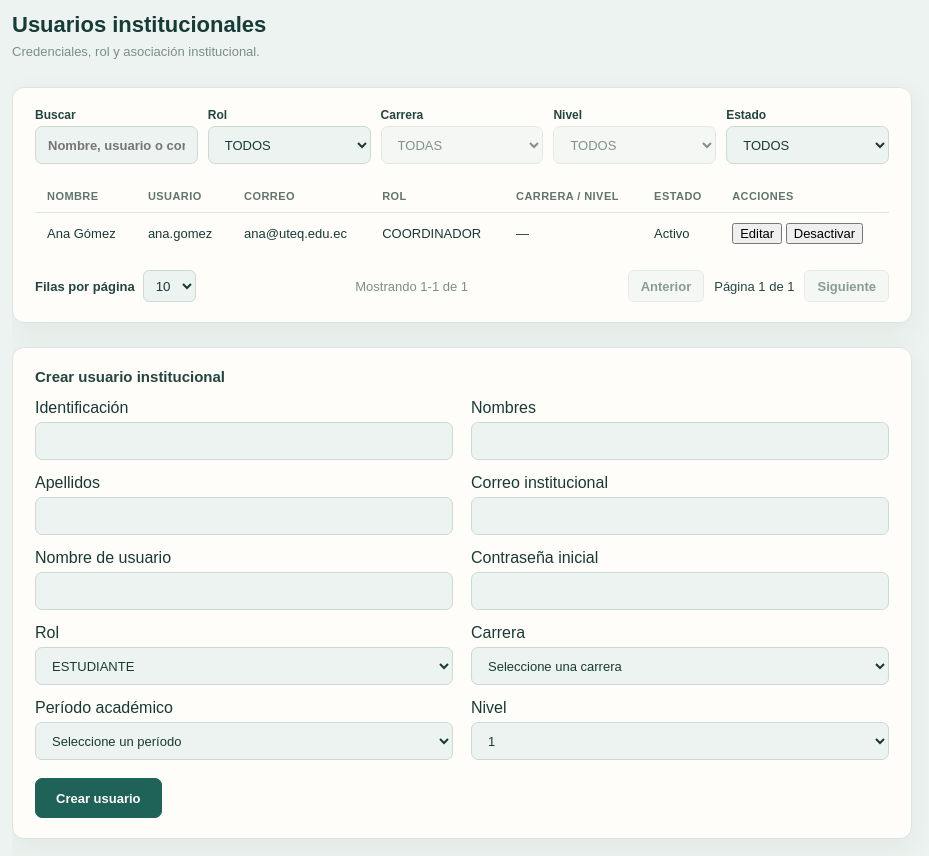
Test case: UsuariosPage administrativa › habilitación Carrera/Nivel solo para ESTUDIANTE y reinicio al cambiar de rol
Expected: the text "ana.gomez" is shown, [136,212,232,254]
Expected: the 1st dropdown labelled "Carrera" is disabled, [381,126,543,164]
Select "DOCENTE" in the dropdown labelled "Rol" below "Buscar": (289, 145) [208,126,371,164]
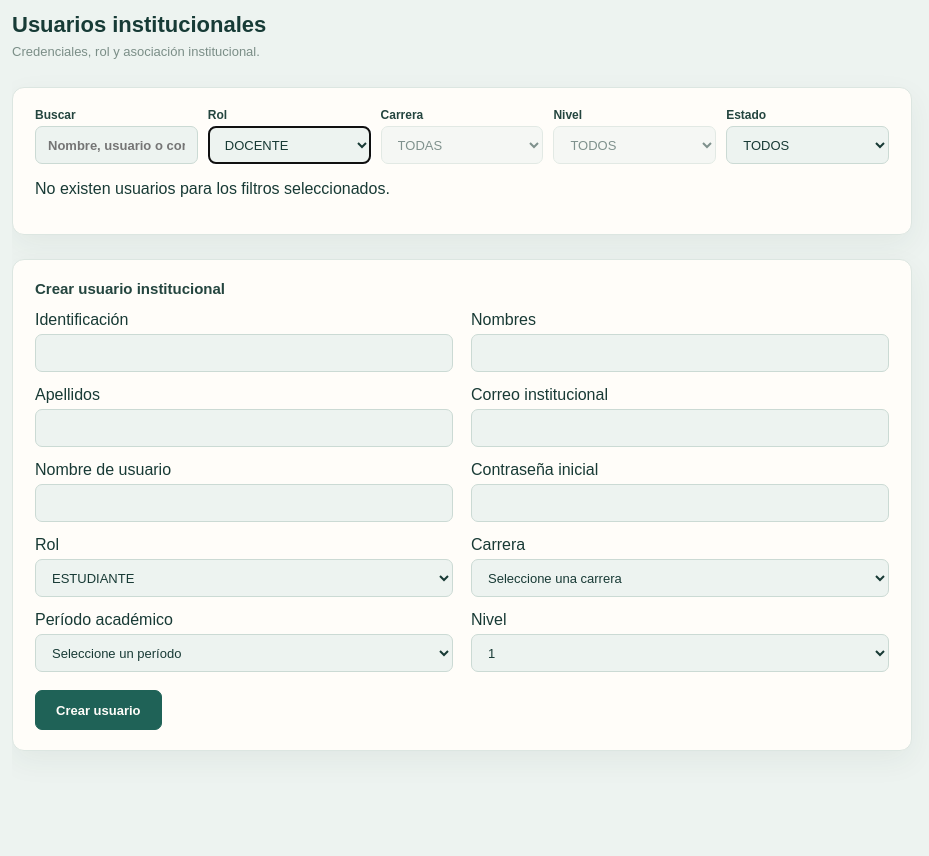
Expected: the dropdown labelled "Carrera" below "Estado" is disabled, [381,126,543,164]
Expected: the dropdown labelled "Nivel" below "Estado" is disabled, [553,126,716,164]
Select "ESTUDIANTE" in the dropdown labelled "Rol" below "Buscar": (289, 145) [208,126,371,164]
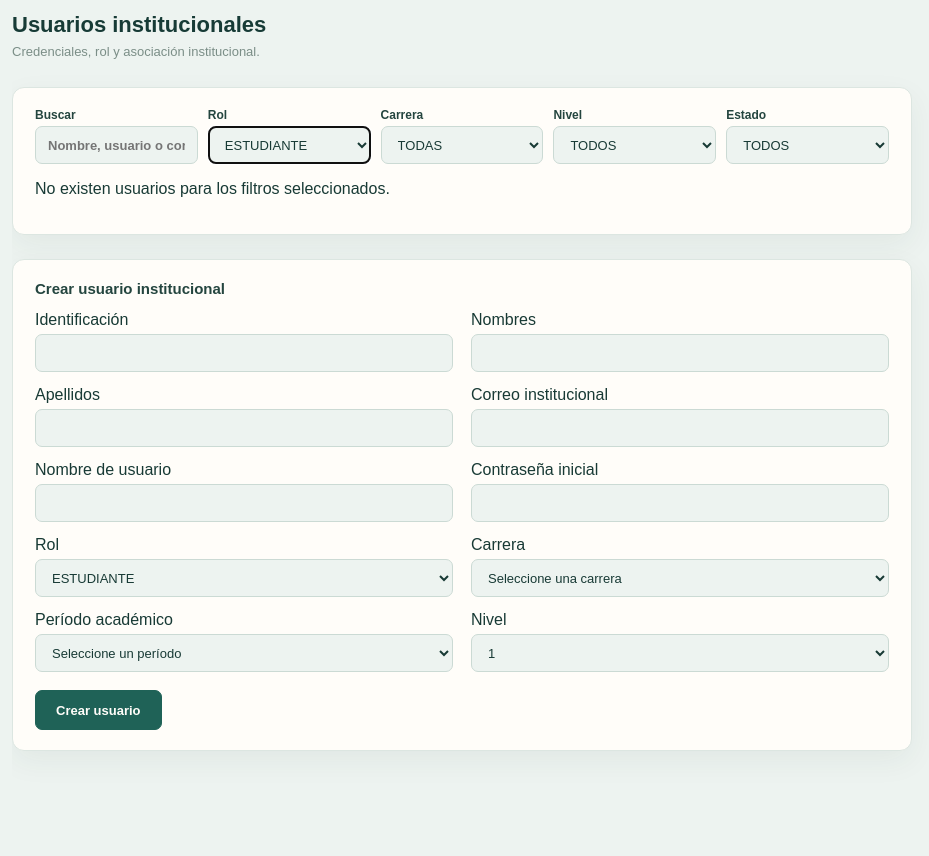
Expected: the dropdown labelled "Carrera" below "Estado" is enabled
Expected: the dropdown labelled "Nivel" below "Estado" is enabled, [553,126,716,164]
Seleccionar carrera y nivel
Select "Ingeniería de Software" in the dropdown labelled "Carrera" below "Estado": (462, 145) [381,126,543,164]
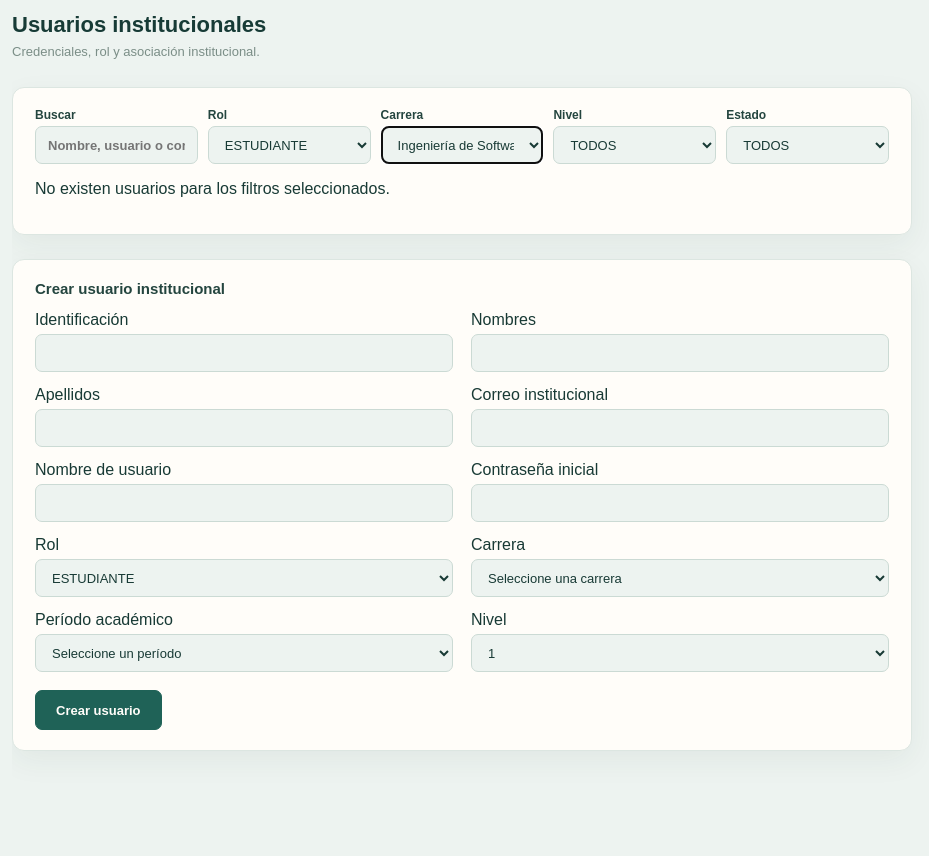
Select "3" in the dropdown labelled "Nivel" below "Estado": (635, 145) [553,126,716,164]
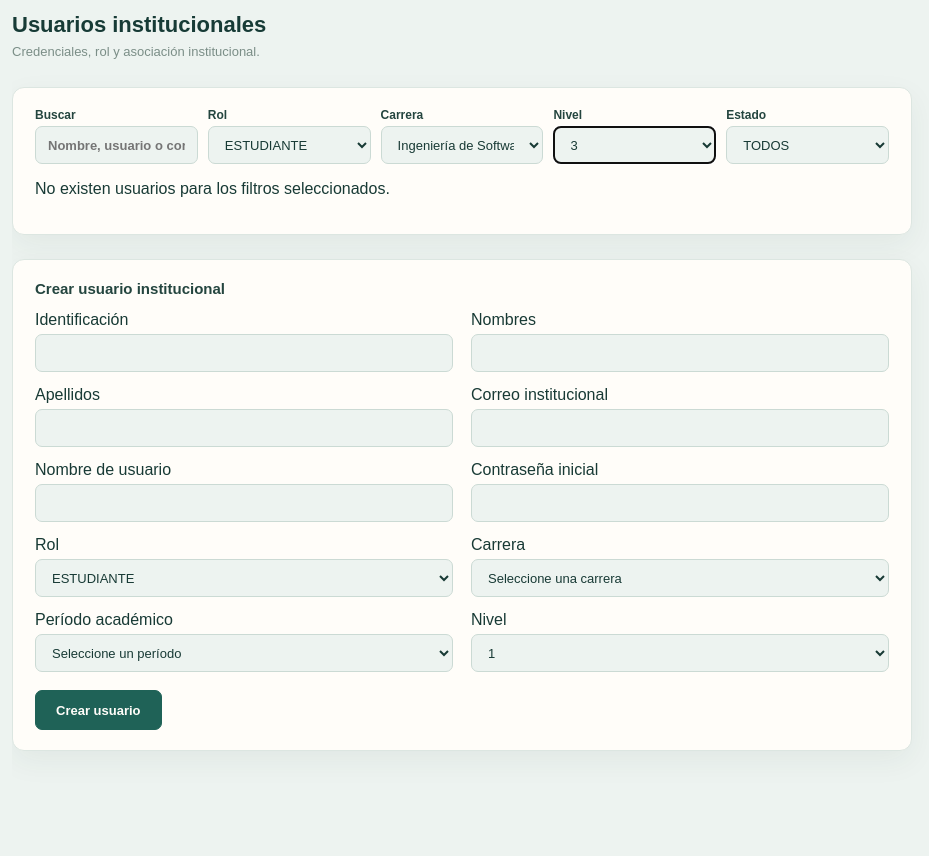
Cambiar a COORDINADOR: Carrera y Nivel deshabilitados y reiniciados
Select "COORDINADOR" in the dropdown labelled "Rol" below "Buscar": (289, 145) [208,126,371,164]
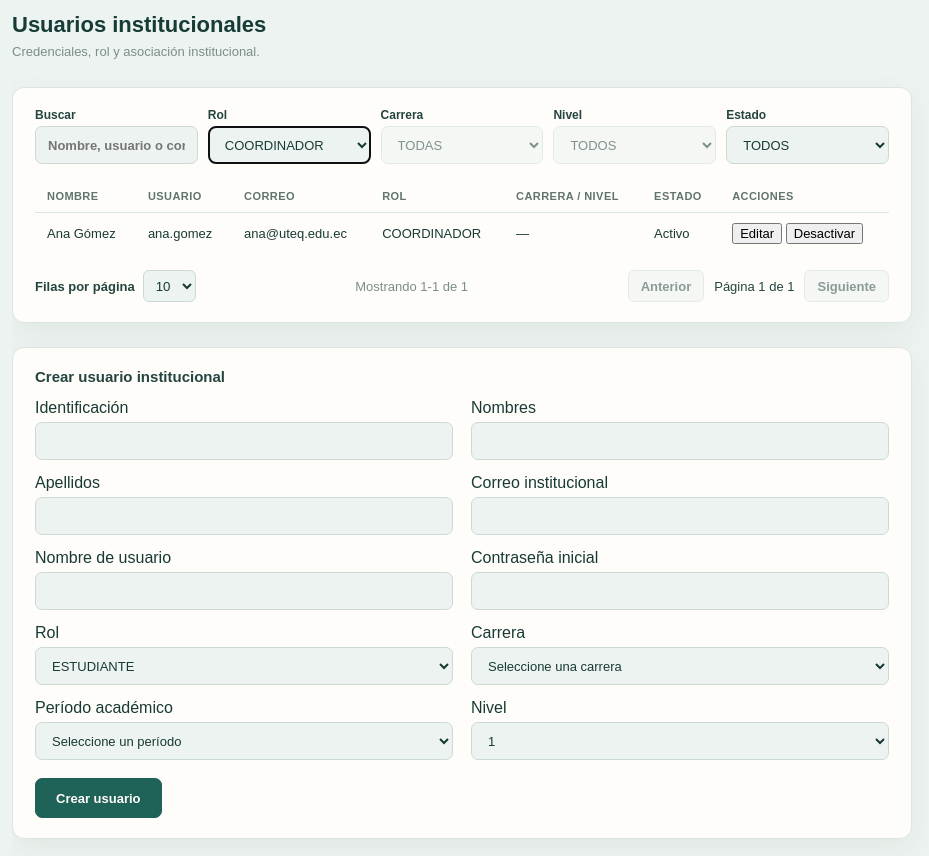
Expected: the 1st dropdown labelled "Carrera" is disabled, [381,126,543,164]
Expected: the 1st dropdown labelled "Nivel" is disabled, [553,126,716,164]
